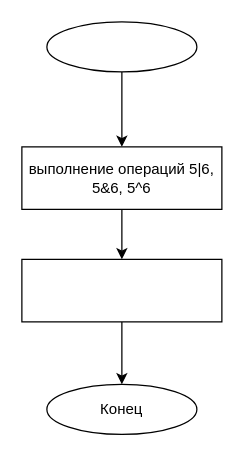
Image size: 244x456. Some labels were removed from this diagram. Here are the shapes that lost their labels. From the top down, the centre of each, then its label:
point (121, 46): Начало
point (121, 290): выполнение операций 5>>2, 5<<2
